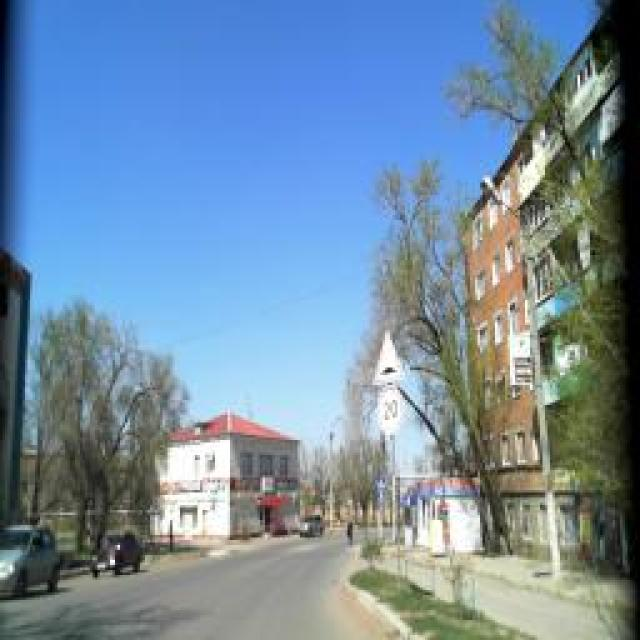sign: (377, 386, 405, 436)
